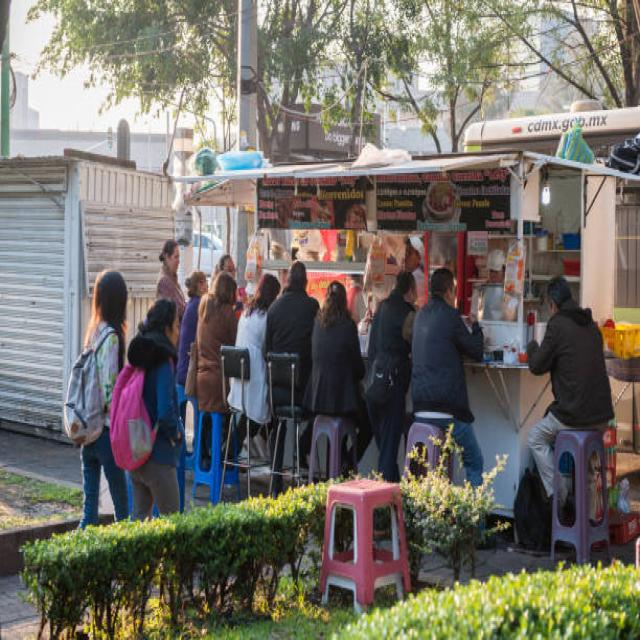Emperan: (159, 149, 632, 544)
